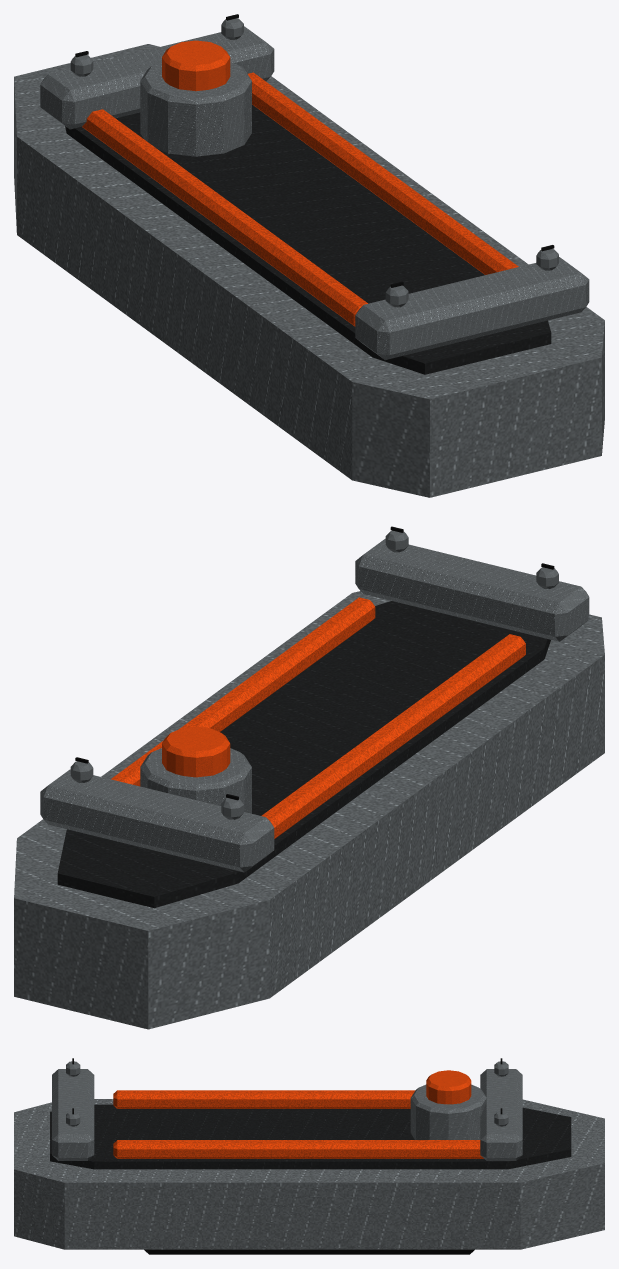
Rendered from impulse-belt-module-ready.glb.
3 renders of one model, top to bottom at view 1: azimuth 30°, elevation 25°; view 2: azimuth 150°, elevation 25°; view 3: azimuth 270°, elevation 25°, orthographic. The views are drawn at different scales.
Visible parts, largest first — view 1: Belt module steel armor, Recessed charcoal module plate, Steel module cross brace, Orange status rail, Orange status rail.001, Top module socket, Steel module cross brace.001, Socket orange insert; view 2: Belt module steel armor, Recessed charcoal module plate, Steel module cross brace.001, Steel module cross brace, Orange status rail, Orange status rail.001, Top module socket, Socket orange insert; view 3: Belt module steel armor, Recessed charcoal module plate, Orange status rail.001, Orange status rail, Steel module cross brace, Steel module cross brace.001, Top module socket, Belt retaining clip, Socket orange insert.
Boxes of the visible parts, left/top/right/bottom form: Belt module steel armor: left=14, top=44, right=604, bottom=497; Recessed charcoal module plate: left=65, top=104, right=551, bottom=374; Steel module cross brace: left=355, top=257, right=589, bottom=359; Orange status rail: left=82, top=109, right=367, bottom=326; Orange status rail.001: left=248, top=72, right=518, bottom=274; Top module socket: left=140, top=62, right=251, bottom=156; Steel module cross brace.001: left=40, top=26, right=274, bottom=129; Socket orange insert: left=162, top=40, right=230, bottom=91; Belt module steel armor: left=14, top=591, right=604, bottom=1029; Recessed charcoal module plate: left=57, top=601, right=550, bottom=908; Steel module cross brace.001: left=40, top=769, right=274, bottom=872; Steel module cross brace: left=355, top=538, right=589, bottom=641; Orange status rail: left=261, top=634, right=525, bottom=838; Orange status rail.001: left=111, top=597, right=375, bottom=786; Top module socket: left=140, top=748, right=251, bottom=813; Socket orange insert: left=162, top=726, right=230, bottom=777; Belt module steel armor: left=14, top=1099, right=604, bottom=1249; Recessed charcoal module plate: left=50, top=1104, right=571, bottom=1169; Orange status rail.001: left=113, top=1140, right=483, bottom=1158; Orange status rail: left=113, top=1090, right=415, bottom=1108; Steel module cross brace: left=52, top=1069, right=94, bottom=1160; Steel module cross brace.001: left=480, top=1069, right=522, bottom=1160; Top module socket: left=410, top=1084, right=486, bottom=1139; Belt retaining clip: left=144, top=1249, right=474, bottom=1254; Socket orange insert: left=426, top=1070, right=471, bottom=1104.
Bounding box in the file's own units: 0.094 × 0.0875 × 0.28.
4 materials, 4 textured.
